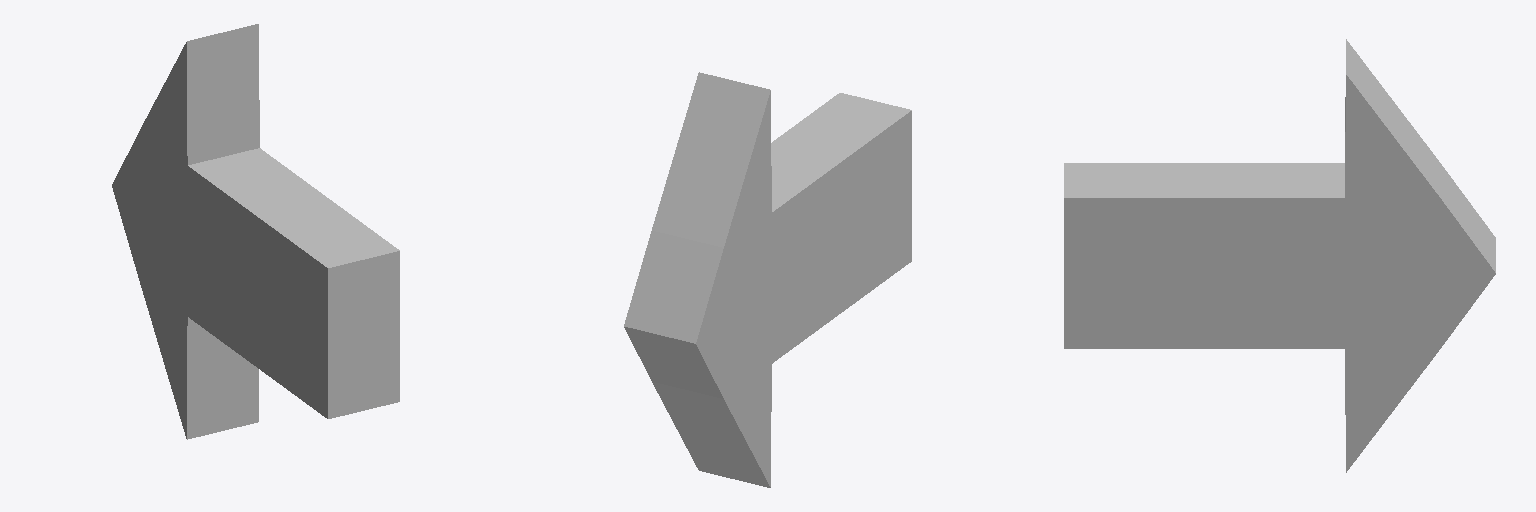
The model's file is HollowArrow.obj.
3 views of the same model, side by side, from view 1: azimuth 30°, elevation 25°; view 2: azimuth 150°, elevation 25°; view 3: azimuth 270°, elevation 25° (orthographic).
Visible parts, largest first — view 1: Cube; view 2: Cube; view 3: Cube.
Boxes of the visible parts, x1=… form: Cube: x1=112, y1=24, x2=399, y2=439; Cube: x1=624, y1=72, x2=911, y2=487; Cube: x1=1064, y1=39, x2=1495, y2=472.
Size of the model in its own units: 1 by 5.28 by 5.19.